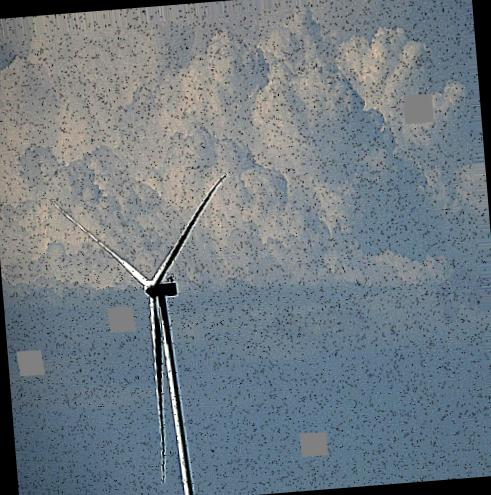wind turbine: (51, 173, 228, 494)
